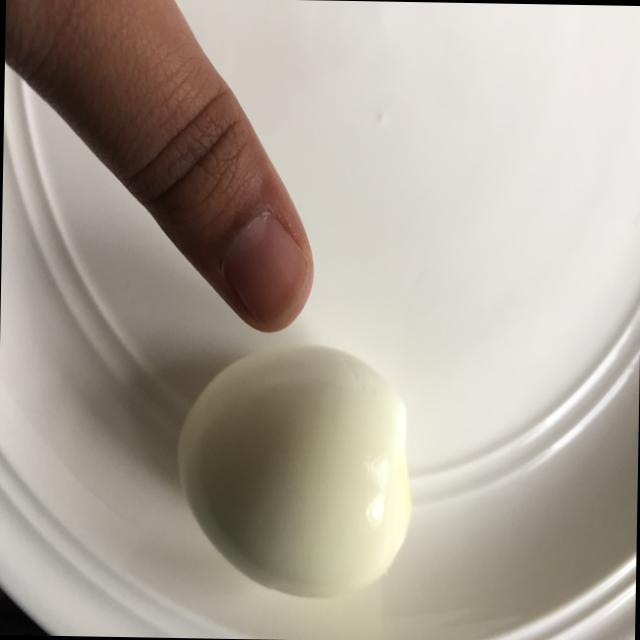Egg: (164, 336, 440, 616)
Finger: (66, 41, 327, 333)
